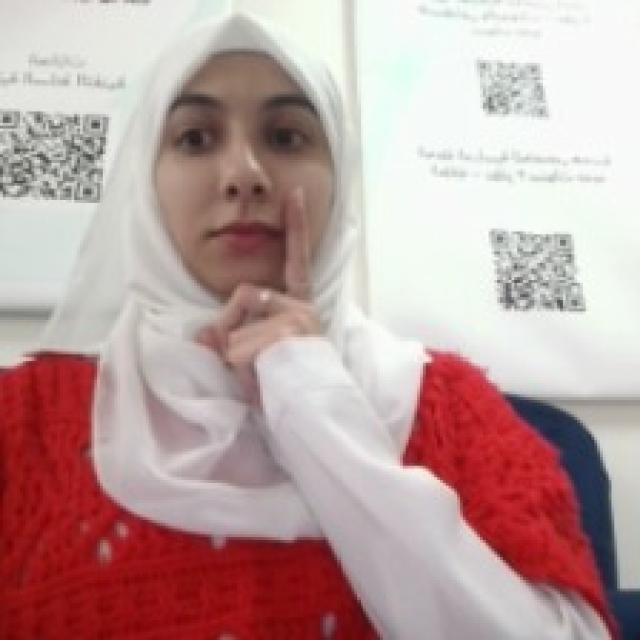mother: (189, 174, 340, 386)
